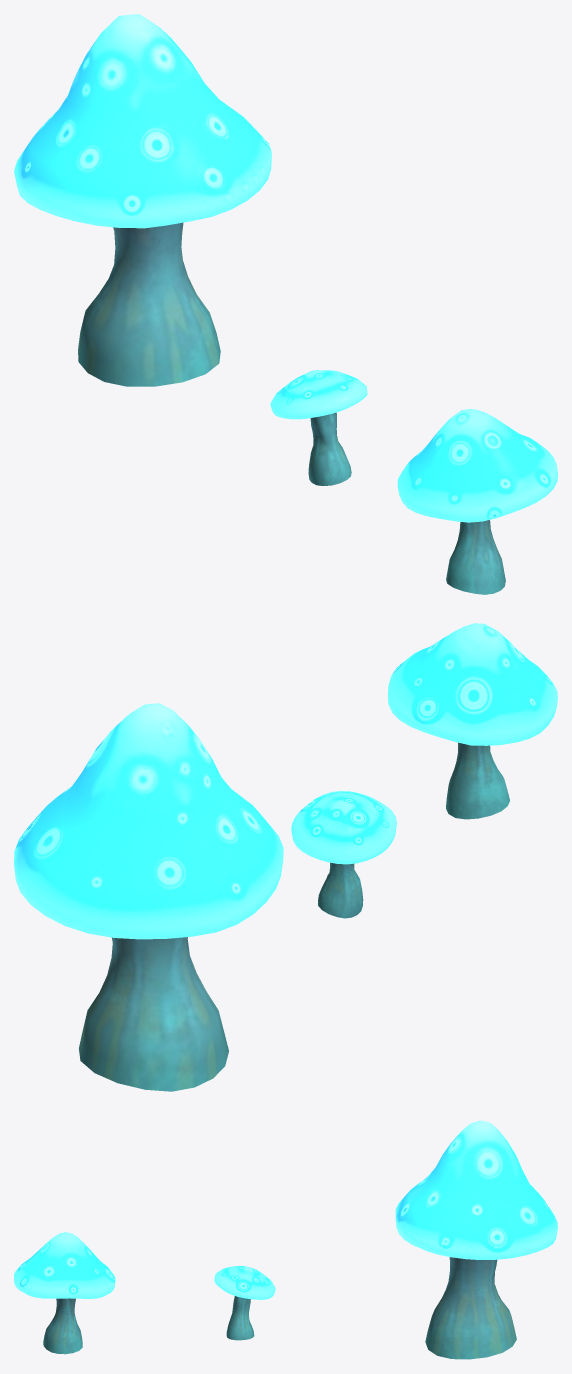
File: stylized_glowing_mushrooms.glb
3 renders of one model, top to bottom at view 1: azimuth 30°, elevation 25°; view 2: azimuth 150°, elevation 25°; view 3: azimuth 270°, elevation 25°, orthographic. The views are drawn at different scales.
Parts seen in each view (by area): view 1: Hat, Stem1, Hat3, Hat2, Stem3, Stem2; view 2: Hat, Stem1, Hat3, Hat2, Stem3, Stem2; view 3: Hat, Stem1, Hat3, Stem3, Hat2, Stem2.
Part boxes in pixels (box(x1,y1,x2,y2)): Hat: box(14, 14, 271, 228); Stem1: box(78, 222, 220, 386); Hat3: box(397, 409, 557, 522); Hat2: box(270, 370, 367, 419); Stem3: box(446, 520, 505, 594); Stem2: box(308, 412, 351, 485); Hat: box(14, 703, 283, 939); Stem1: box(79, 937, 228, 1091); Hat3: box(387, 623, 557, 745); Hat2: box(291, 791, 396, 864); Stem3: box(446, 742, 509, 819); Stem2: box(318, 862, 363, 918); Hat: box(395, 1120, 557, 1259); Stem1: box(425, 1257, 516, 1359); Hat3: box(14, 1232, 115, 1298); Stem3: box(43, 1298, 82, 1354); Hat2: box(214, 1266, 275, 1299); Stem2: box(226, 1296, 254, 1340).
Size of the model in its own units: 3.34 by 5 by 11.16.
Materials: 2 (2 with a texture image).
